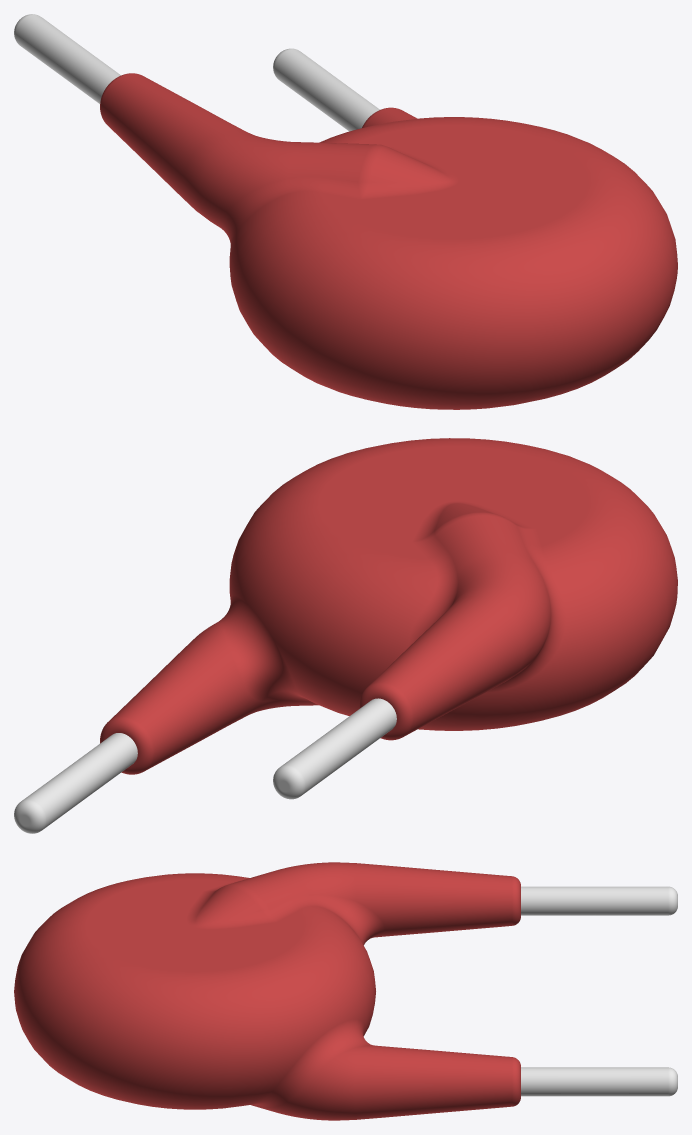
Rendered from disk capacitor br v1.fbx.
3 views of the same model, one above another, from view 1: azimuth 30°, elevation 25°; view 2: azimuth 150°, elevation 25°; view 3: azimuth 270°, elevation 25° (orthographic). The views are drawn at different scales.
Visible parts, largest first — view 1: Body3, Body1, Body2; view 2: Body3, Body1, Body2; view 3: Body3, Body1, Body2.
Part boxes in pixels (left/top/right/bottom): Body3: left=100, top=73, right=677, bottom=409; Body1: left=14, top=14, right=120, bottom=103; Body2: left=273, top=48, right=379, bottom=131; Body3: left=100, top=438, right=677, bottom=774; Body1: left=273, top=698, right=396, bottom=799; Body2: left=14, top=733, right=137, bottom=833; Body3: left=14, top=862, right=520, bottom=1120; Body1: left=521, top=886, right=677, bottom=915; Body2: left=521, top=1067, right=677, bottom=1096.
Bounding box in the file's own units: 7.5 × 3.85 × 13.75.
